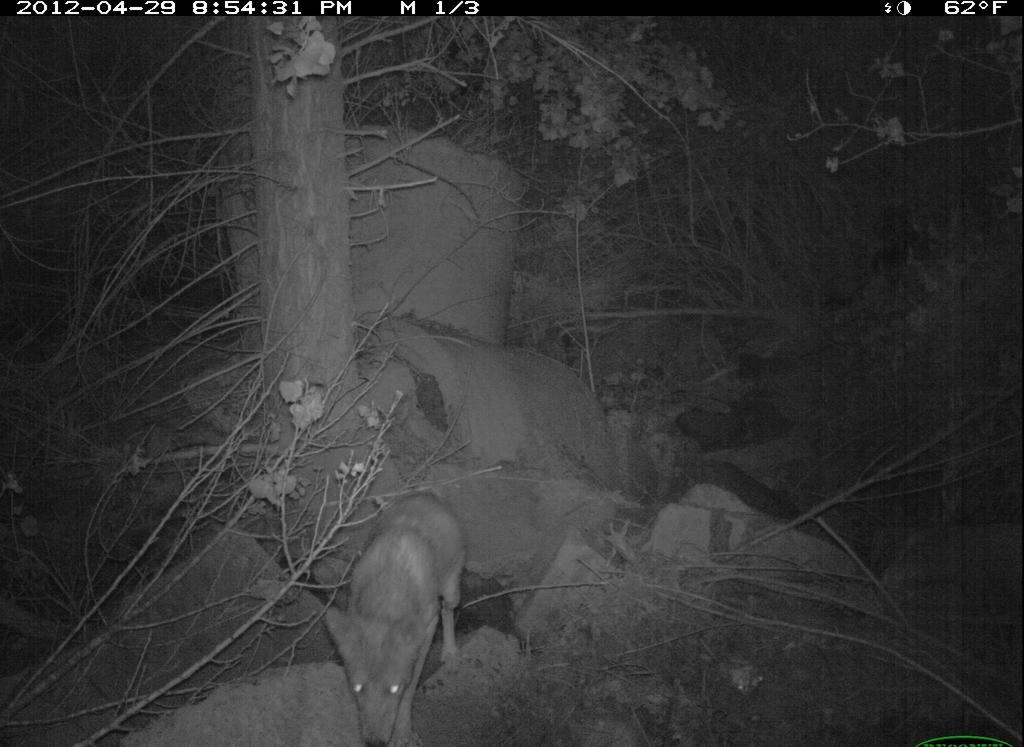coyote: (312, 476, 479, 747)
